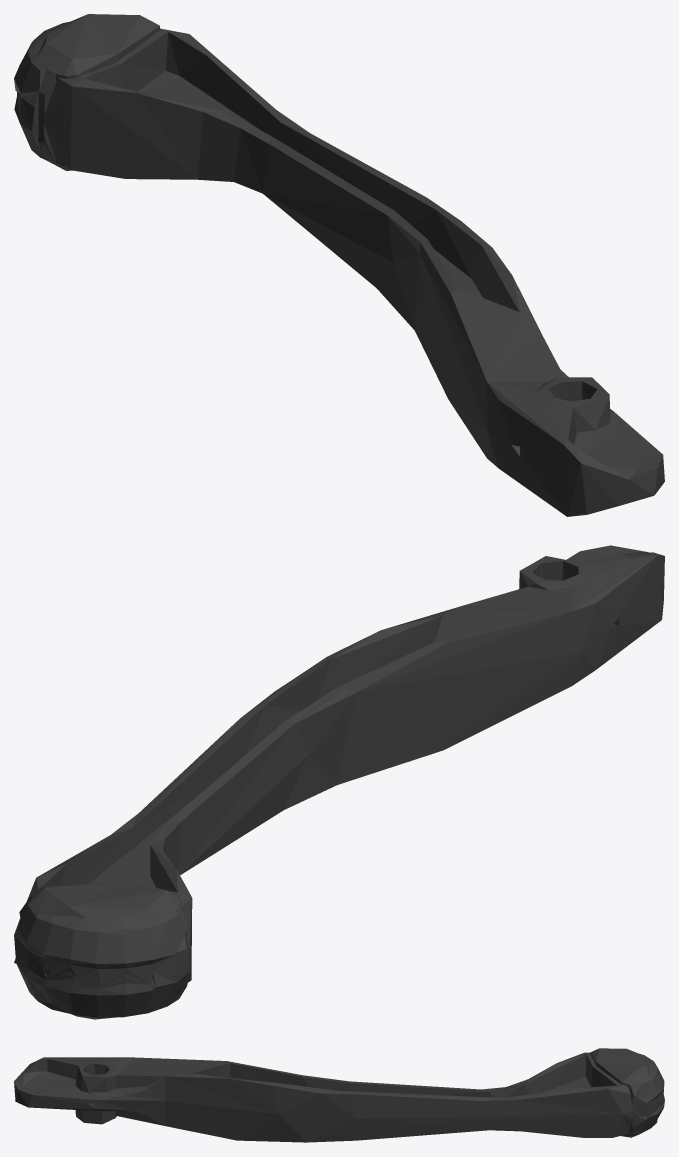
Rendered from rear_right_lower_leg_compressed.dae.
The picture shows the model from 3 angles, top to bottom: view 1: azimuth 30°, elevation 25°; view 2: azimuth 150°, elevation 25°; view 3: azimuth 270°, elevation 25°; orthographic projection. The views are drawn at different scales.
Visible parts, largest first — view 1: node; view 2: node; view 3: node.
Part boxes in pixels (x1,y1,x2,y2): node: [14, 14, 664, 516]; node: [14, 545, 664, 1019]; node: [14, 1048, 664, 1142].
Bounding box in the file's own units: 0.075 × 0.0456 × 0.4236.
1 material, 1 textured.
